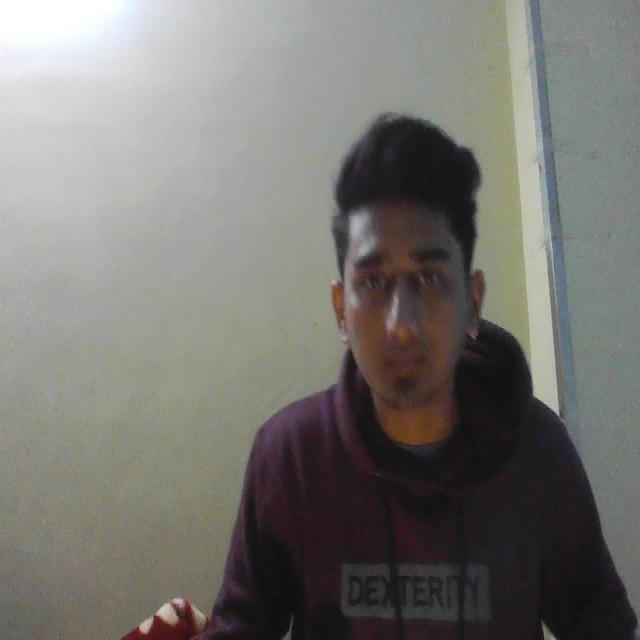real: (324, 118, 498, 446)
